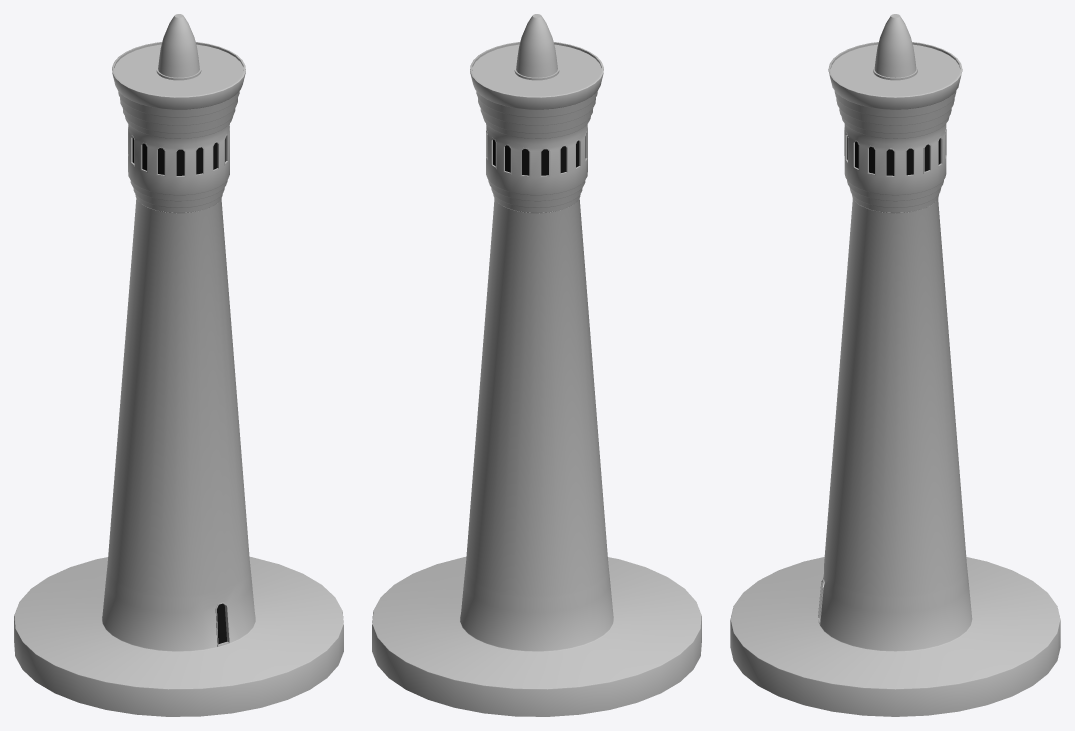
File: Minora.fbx
The picture shows the model from 3 angles, left to right: view 1: azimuth 30°, elevation 25°; view 2: azimuth 150°, elevation 25°; view 3: azimuth 270°, elevation 25°; orthographic projection.
Visible parts, largest first — view 1: Cylinder; view 2: Cylinder; view 3: Cylinder.
Boxes of the visible parts, x1=… form: Cylinder: x1=14, y1=14, x2=343, y2=716; Cylinder: x1=372, y1=14, x2=701, y2=716; Cylinder: x1=730, y1=14, x2=1060, y2=716.
Size of the model in its own units: 1352 by 2851 by 1352.
